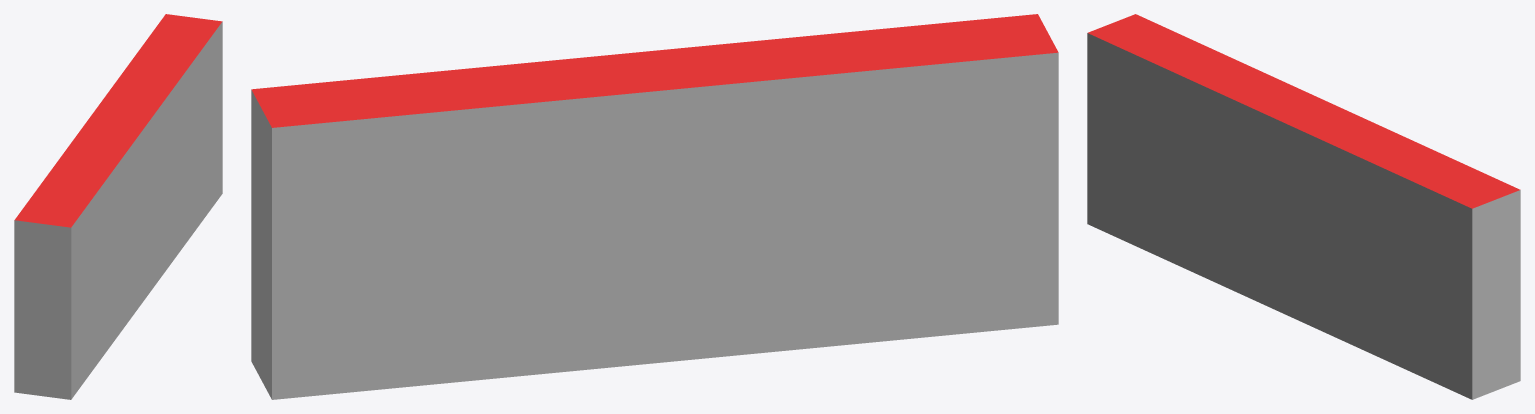
The model's file is ID_33e88415-9989-40c3-b4cb-c1dee031552a.dae.
3 renders of one model, left to right at view 1: azimuth 30°, elevation 25°; view 2: azimuth 150°, elevation 25°; view 3: azimuth 270°, elevation 25°, orthographic. The views are drawn at different scales.
Size of the model in its own units: 34.96 by 32.87 by 16.
